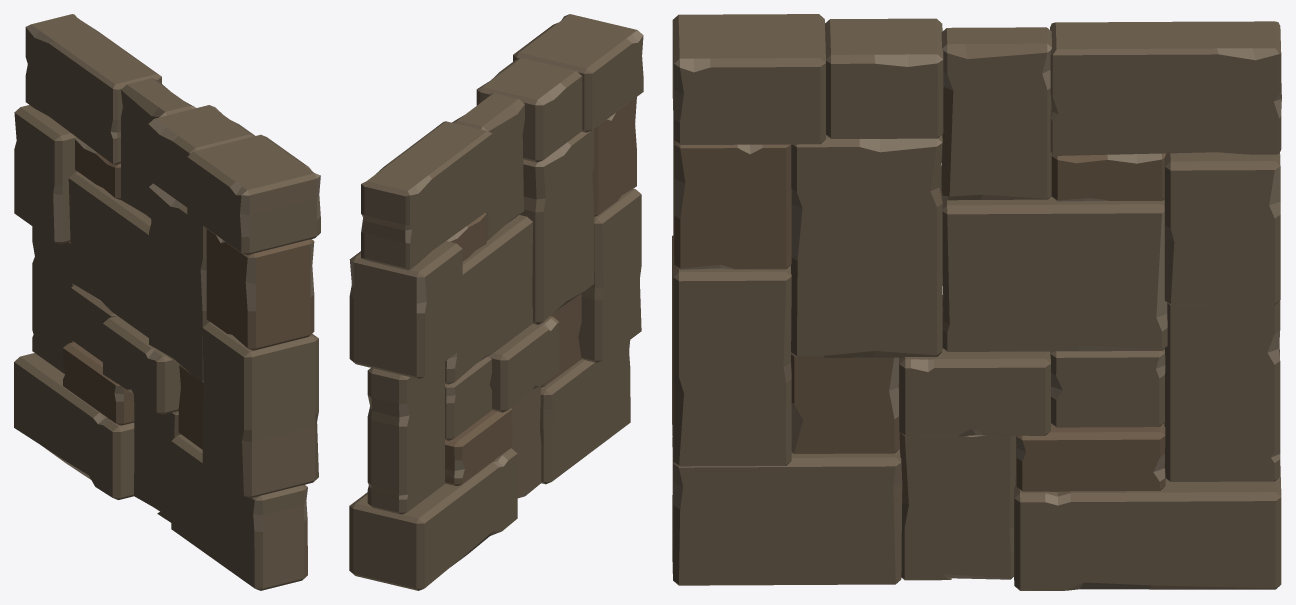
File: plaza_wall_west_6_lev3.glb
3 views of the same model, side by side, from view 1: azimuth 30°, elevation 25°; view 2: azimuth 150°, elevation 25°; view 3: azimuth 270°, elevation 25° (orthographic). The views are drawn at different scales.
Visible parts, largest first — view 1: plaza_wall_west_6_lev3; view 2: plaza_wall_west_6_lev3; view 3: plaza_wall_west_6_lev3.
Part boxes in pixels (x1=…): plaza_wall_west_6_lev3: x1=14, y1=14, x2=320, y2=590; plaza_wall_west_6_lev3: x1=349, y1=14, x2=643, y2=590; plaza_wall_west_6_lev3: x1=672, y1=14, x2=1281, y2=590.
Size of the model in its own units: 1.28 by 5.97 by 6.16.
